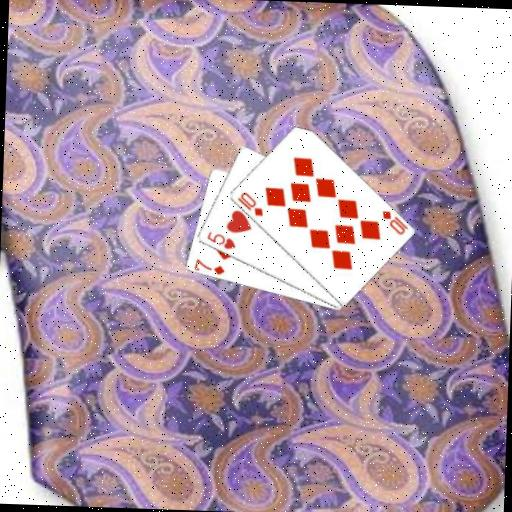10D: (234, 188, 265, 217), (378, 207, 409, 236)
5H: (203, 228, 237, 251)
7D: (190, 256, 226, 277)
